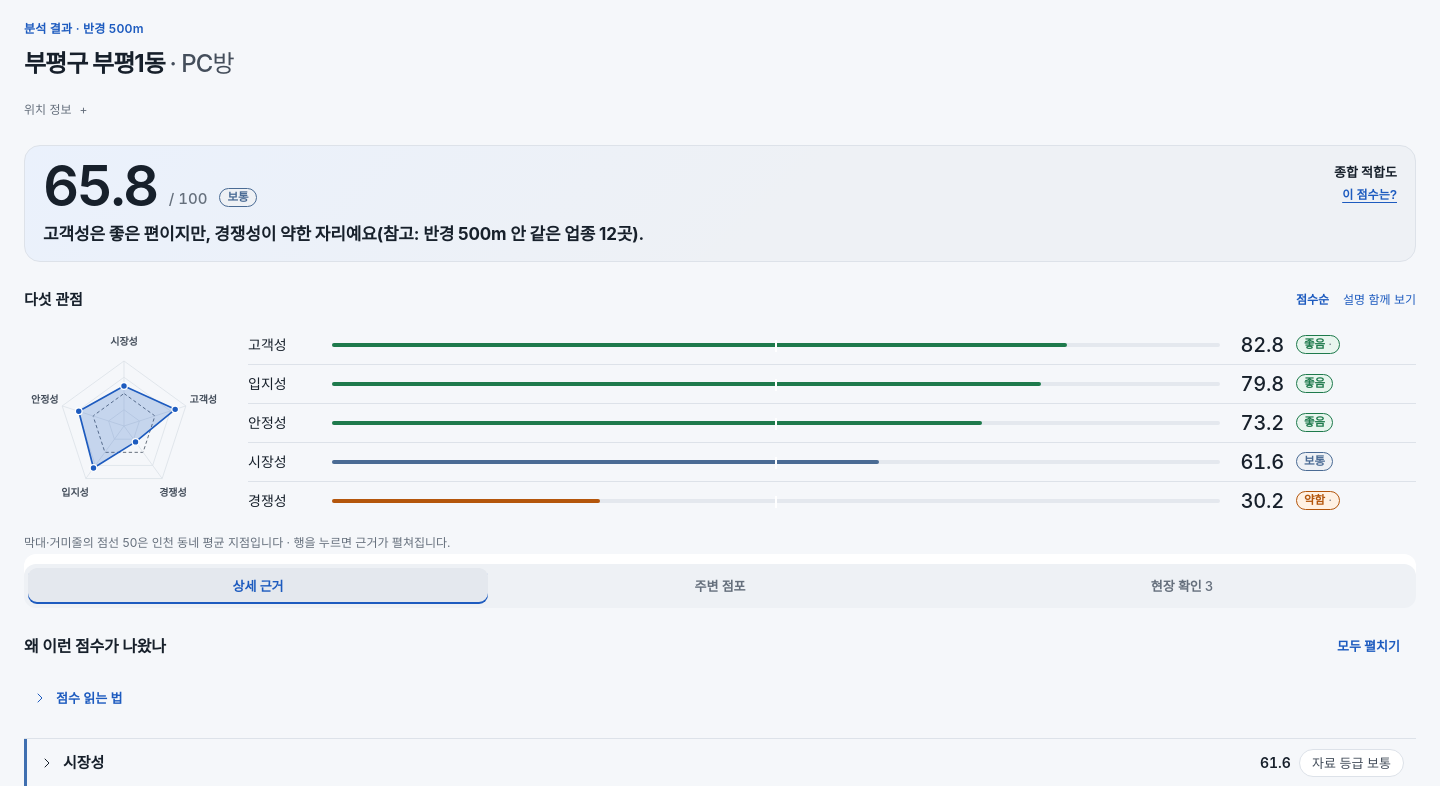
Scenario: 기본 결과는 간단히, 근거는 요청할 때 › 다섯 점수·등급·한 줄 결론은 보이고, 근거 줄·자료 단위는 행을 펼칠 때만, 높음/낮음 라벨·충족 정보는 접혀 있다 (12-20 안 B → R1 13-14)
The width and height of the screenshot is (1440, 786).
Check: the 1st element showing "좋음" is shown, box top-left (1296, 336), bottom-right (1340, 354)
Check: the 2nd element showing "좋음" is shown, box top-left (1296, 374), bottom-right (1333, 394)
Note: 행을 펼치면 근거 줄 + 자료 단위 칩
Click the 1st button "좋음". click: click(1318, 345)
box: top-left (248, 326), bottom-right (1416, 364)
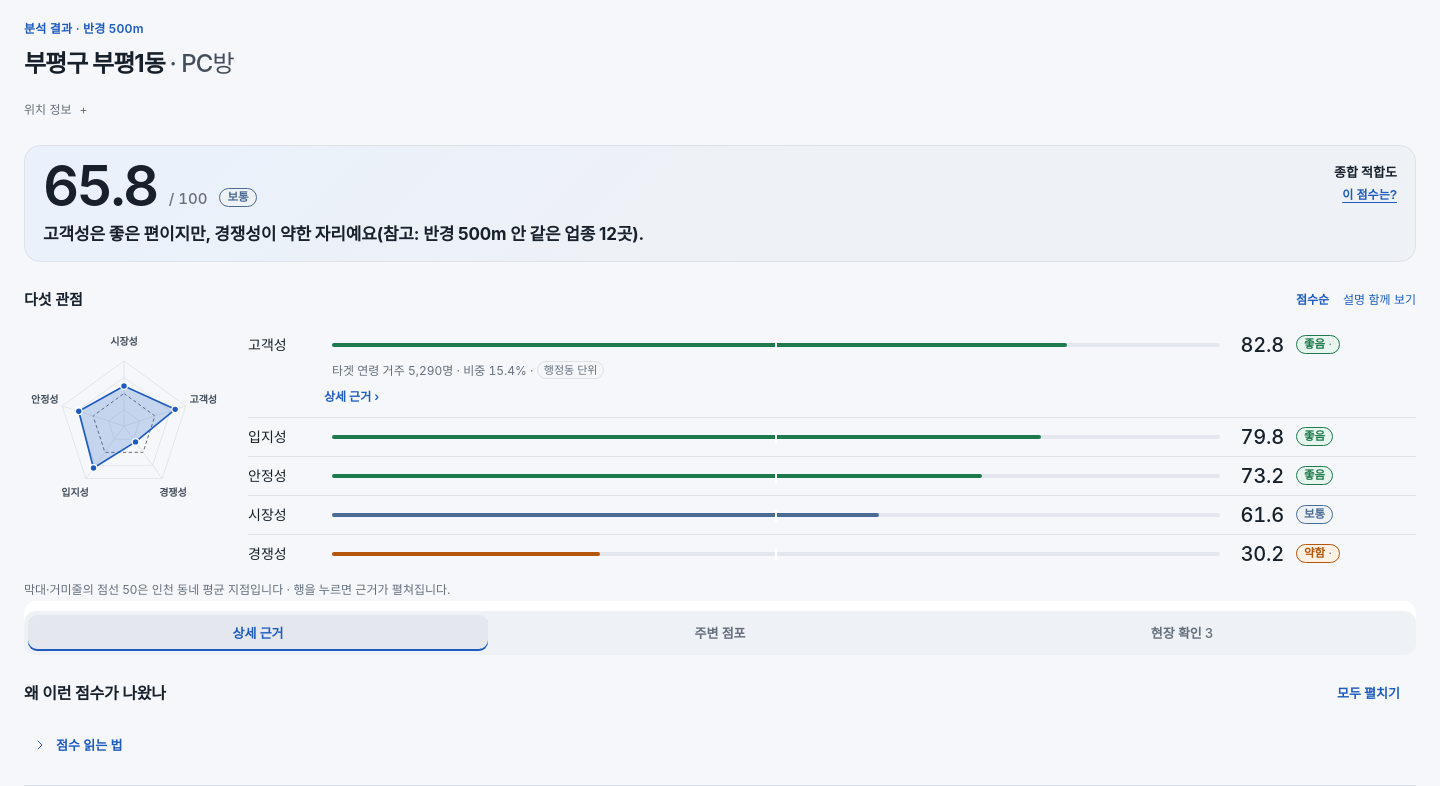
Check: the element showing "타겟 연령 거주 5,290명 · 비중 15.4%" is shown, box top-left (332, 363), bottom-right (537, 378)
Check: the text "행정동 단위" is shown, box top-left (537, 361), bottom-right (604, 379)
